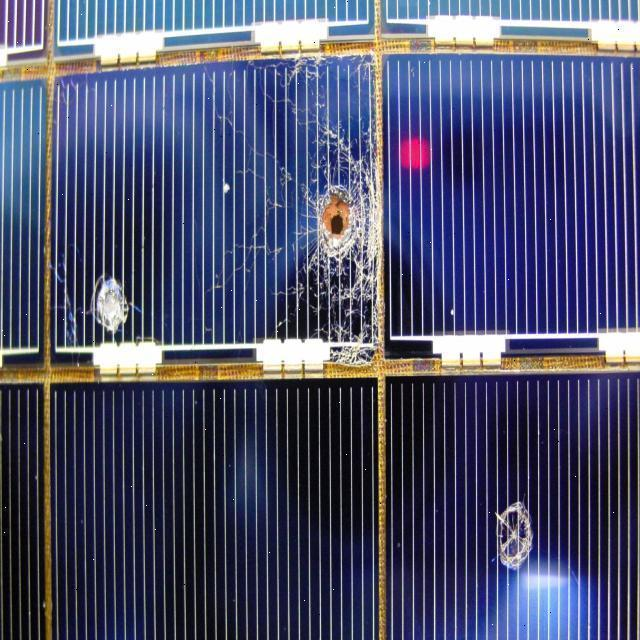Structural Damage: (276, 120, 406, 347), (304, 179, 368, 257), (495, 502, 537, 569), (86, 277, 138, 330)
